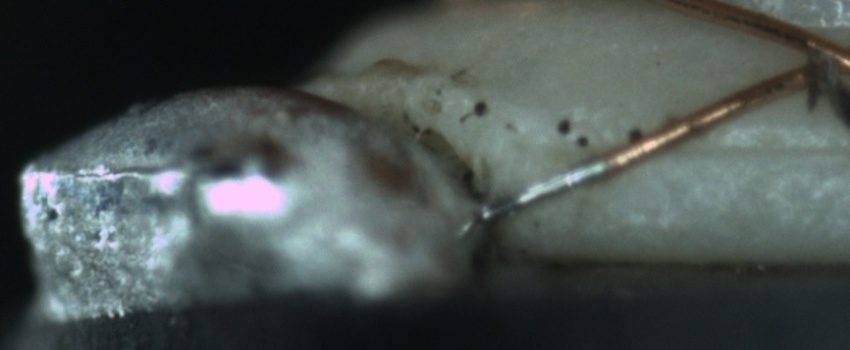CL: (772, 22, 848, 97)
DL: (625, 113, 850, 184)
TS: (475, 156, 607, 223)
